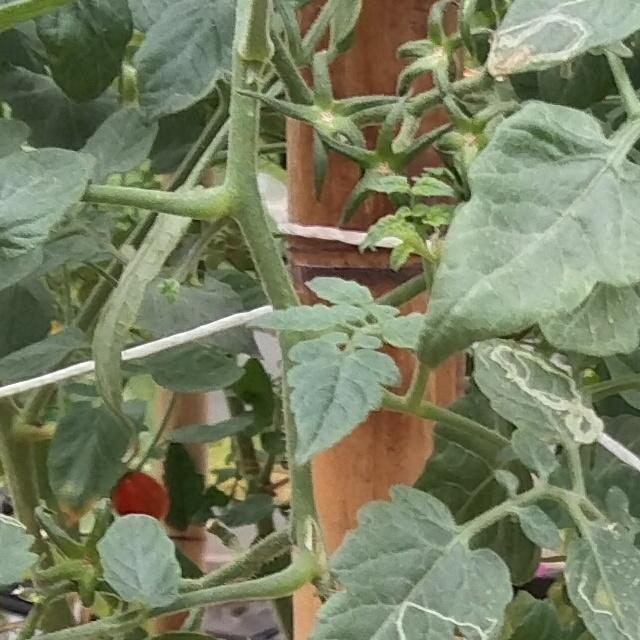Tomato target spot leaf: (309, 483, 511, 640), (472, 338, 604, 446), (485, 0, 640, 80), (562, 522, 640, 640)
